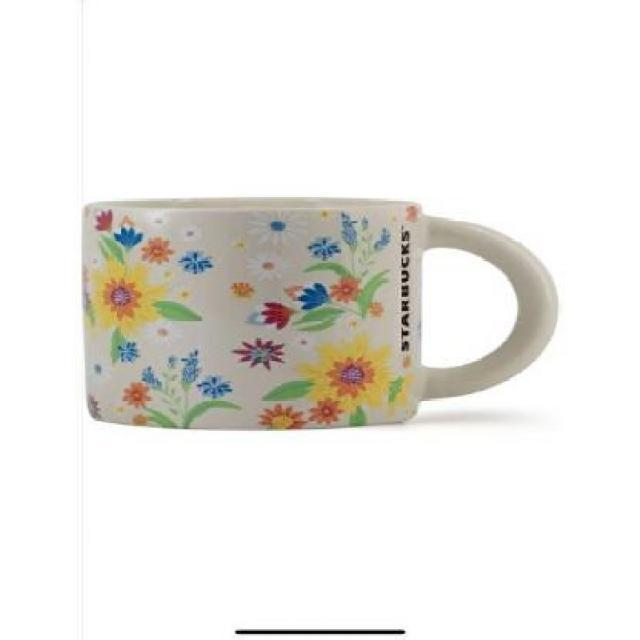taza: (81, 198, 560, 432)
